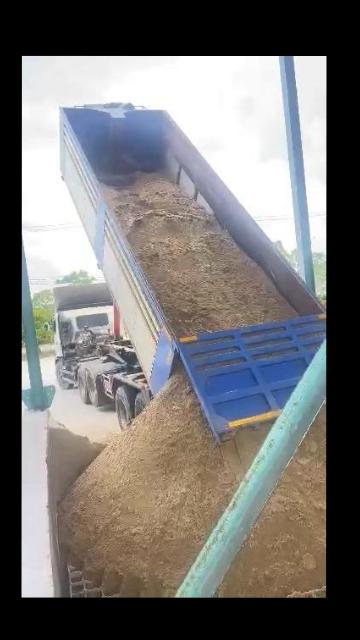sand: (60, 372, 268, 597), (105, 174, 297, 336), (222, 409, 326, 597), (47, 418, 104, 536)
